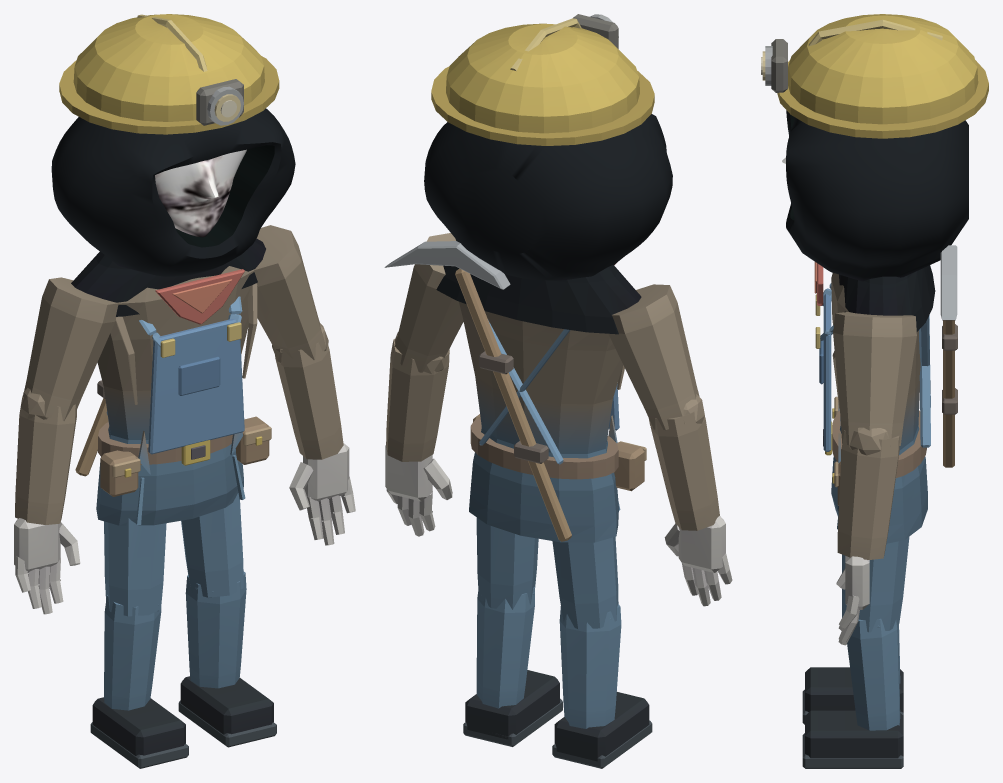
Rendered from HoodedStrangerMiner.glb.
The picture shows the model from 3 angles, left to right: view 1: azimuth 30°, elevation 25°; view 2: azimuth 150°, elevation 25°; view 3: azimuth 270°, elevation 25°; orthographic projection.
Parts seen in each view (by area): view 1: Head, Body, ArmR, ArmL, LegR, LegL, HeadFace; view 2: Head, Body, ArmR, LegR, LegL, ArmL; view 3: Head, ArmL, LegL, Body, LegR.
Boxes of the visible parts, <box> form: Head: <box>51,14,295,316</box>; Body: <box>75,266,271,525</box>; ArmR: <box>14,277,118,614</box>; ArmL: <box>254,225,355,545</box>; LegR: <box>90,518,188,768</box>; LegL: <box>178,493,276,747</box>; HeadFace: <box>155,149,246,237</box>; Head: <box>424,14,672,334</box>; Body: <box>384,241,646,542</box>; ArmR: <box>608,284,732,606</box>; LegR: <box>552,537,652,768</box>; LegL: <box>463,517,562,746</box>; ArmL: <box>385,233,463,536</box>; Head: <box>761,14,988,331</box>; ArmL: <box>833,312,916,645</box>; LegL: <box>802,537,909,768</box>; Body: <box>814,245,957,543</box>; LegR: <box>802,554,903,724</box>.
Size of the model in its own units: 3.74 by 7.5 by 2.17.
Materials: 2 (1 with a texture image).
